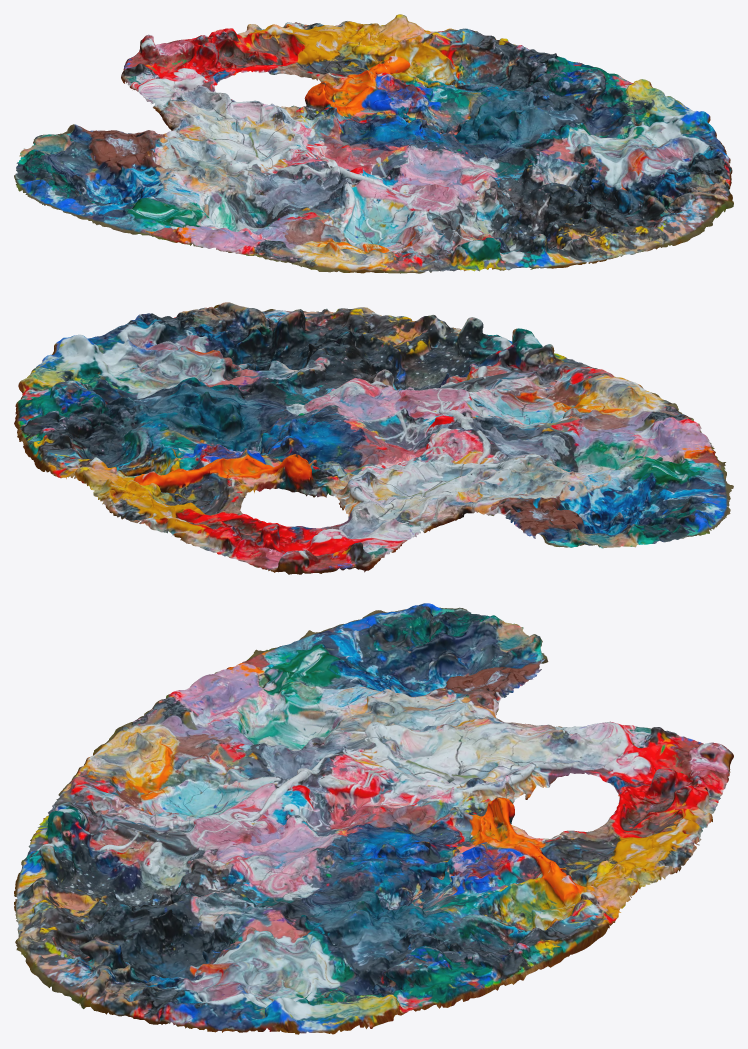
The picture shows the model from 3 angles, top to bottom: view 1: azimuth 30°, elevation 25°; view 2: azimuth 150°, elevation 25°; view 3: azimuth 270°, elevation 25°; orthographic projection. The views are drawn at different scales.
Parts seen in each view (by area): view 1: Model_material0_0, Model_material2_0, Model_material1_0; view 2: Model_material0_0, Model_material2_0, Model_material1_0; view 3: Model_material0_0, Model_material2_0, Model_material1_0.
Boxes of the visible parts, bbox=[...] form: Model_material0_0: bbox=[42, 22, 732, 269]; Model_material2_0: bbox=[14, 14, 726, 271]; Model_material1_0: bbox=[23, 28, 733, 273]; Model_material0_0: bbox=[54, 307, 730, 574]; Model_material2_0: bbox=[14, 307, 728, 572]; Model_material1_0: bbox=[19, 302, 733, 548]; Model_material0_0: bbox=[15, 609, 733, 1028]; Model_material2_0: bbox=[14, 603, 723, 1034]; Model_material1_0: bbox=[24, 624, 618, 1008].
Bounding box in the file's own units: 0.2698 × 0.0325 × 0.2189.
Materials: 3 (3 with a texture image).
